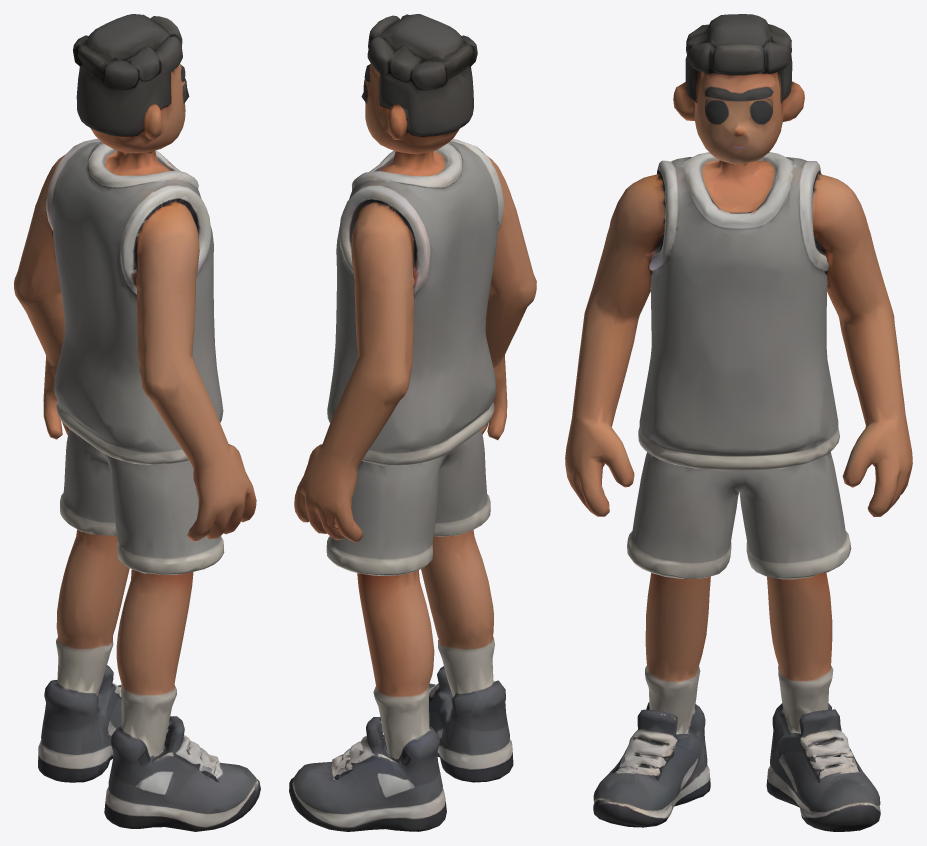
The model's file is player_a.glb.
3 renders of one model, left to right at view 1: azimuth 30°, elevation 25°; view 2: azimuth 150°, elevation 25°; view 3: azimuth 270°, elevation 25°, orthographic. The views are drawn at different scales.
Parts seen in each view (by area): view 1: tripo_node_8abb6c78-a714-4a16-9ea4-d4daee53d11b; view 2: tripo_node_8abb6c78-a714-4a16-9ea4-d4daee53d11b; view 3: tripo_node_8abb6c78-a714-4a16-9ea4-d4daee53d11b.
Boxes of the visible parts, <box> form: tripo_node_8abb6c78-a714-4a16-9ea4-d4daee53d11b: <box>14,14,260,831</box>; tripo_node_8abb6c78-a714-4a16-9ea4-d4daee53d11b: <box>289,14,536,831</box>; tripo_node_8abb6c78-a714-4a16-9ea4-d4daee53d11b: <box>565,14,912,831</box>.
Bounding box in the file's own units: 0.1762 × 1 × 0.3992.
Materials: 1 (1 with a texture image).
